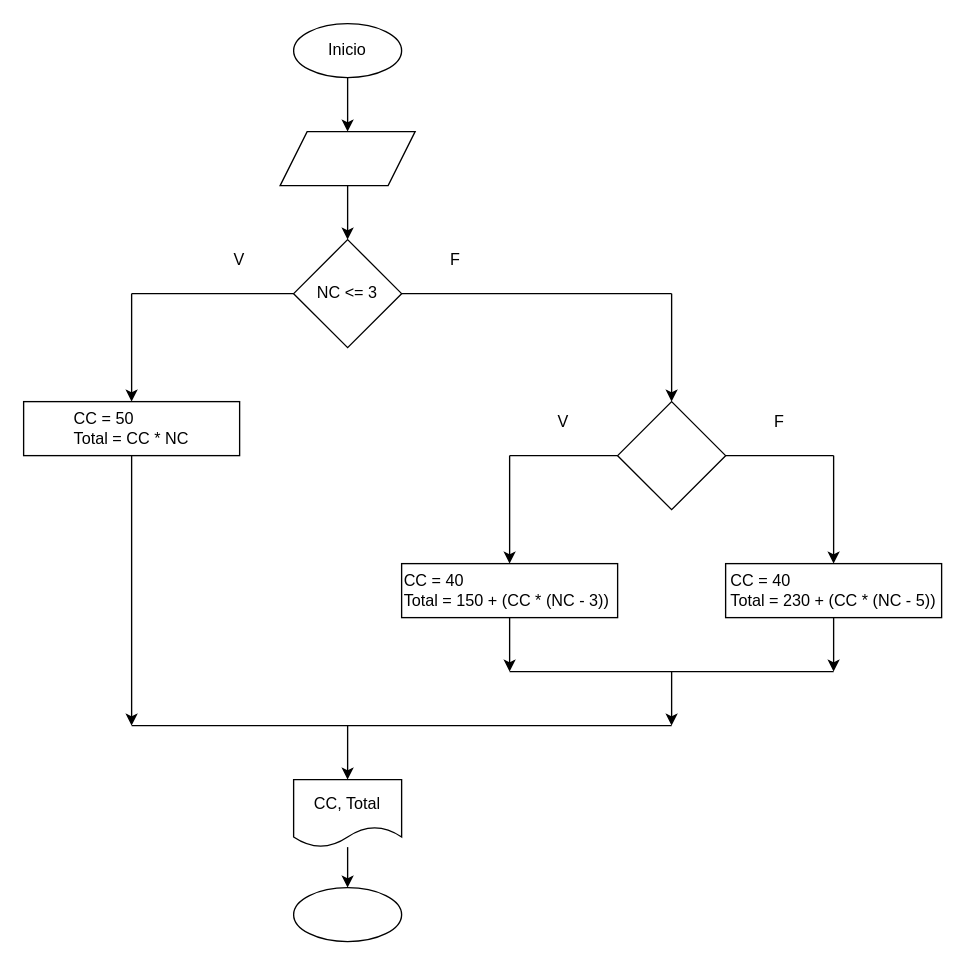
Some shapes in this 965 by 965 pixel diagram are drawn without their labels. Each missing label, with the centre of its shape:
"Fin" goes at [347,914].
"NC" goes at [347,158].
"NC <= 5" goes at [671,455].
